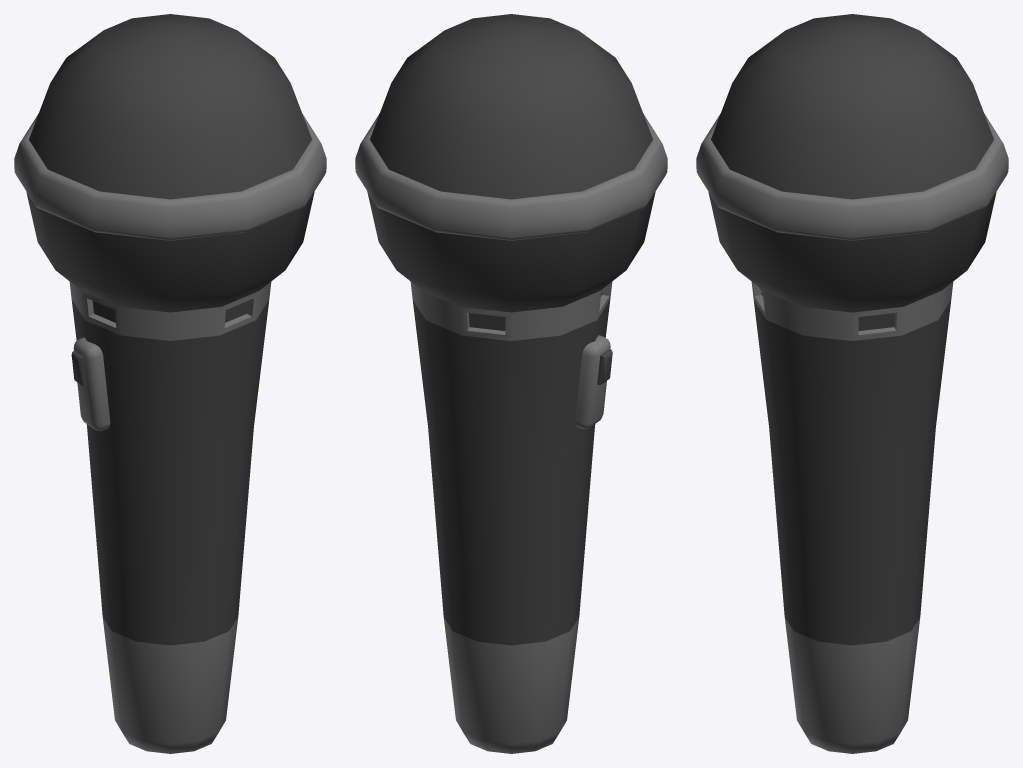
The model's file is Microphone_1.fbx.
The picture shows the model from 3 angles, left to right: view 1: azimuth 30°, elevation 25°; view 2: azimuth 150°, elevation 25°; view 3: azimuth 270°, elevation 25°; orthographic projection.
Parts seen in each view (by area): view 1: Microphone_1; view 2: Microphone_1; view 3: Microphone_1.
Part boxes in pixels (box(x1,y1,x2,y2)): Microphone_1: box(14, 14, 326, 753); Microphone_1: box(355, 14, 667, 753); Microphone_1: box(696, 14, 1008, 753).
Size of the model in its own units: 0.0666 by 0.1659 by 0.0666.
